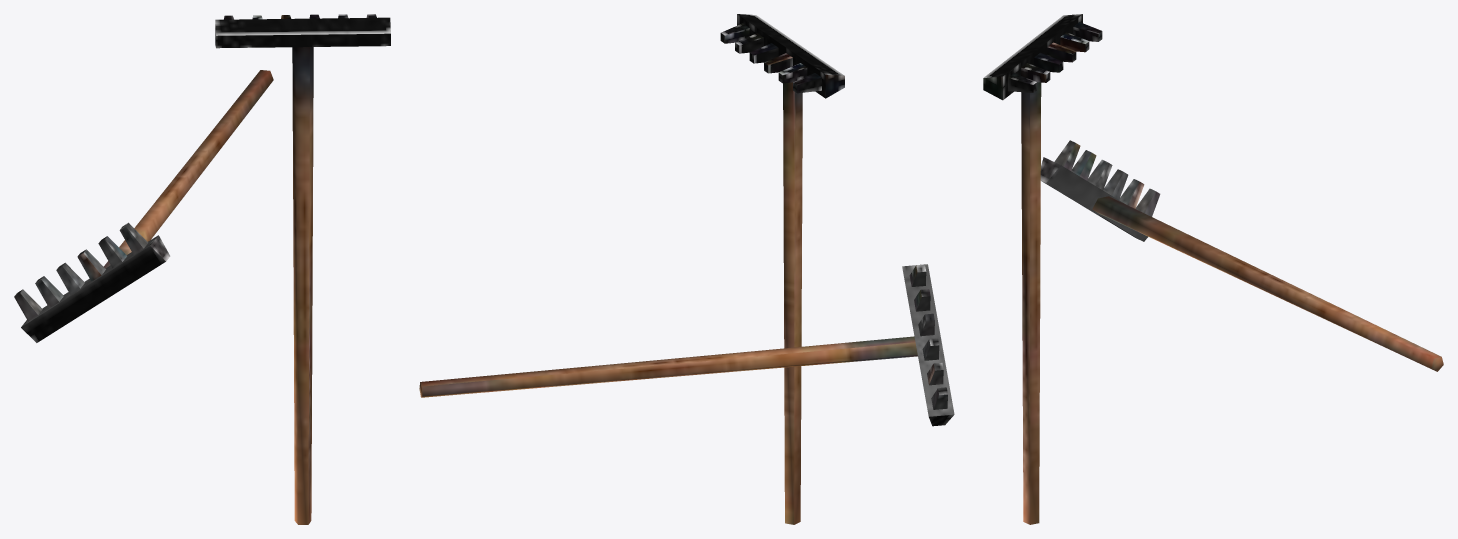
Rendered from garden fork.fbx.
The picture shows the model from 3 angles, left to right: view 1: azimuth 30°, elevation 25°; view 2: azimuth 150°, elevation 25°; view 3: azimuth 270°, elevation 25°; orthographic projection. The views are drawn at different scales.
Parts seen in each view (by area): view 1: Rake, Rake.001; view 2: Rake.001, Rake; view 3: Rake, Rake.001.
Boxes of the visible parts, box(x1,y1,x2,y2) form: Rake: box(215, 14, 390, 524); Rake.001: box(14, 70, 273, 342); Rake.001: box(419, 264, 954, 426); Rake: box(720, 14, 844, 524); Rake: box(983, 14, 1102, 524); Rake.001: box(1040, 140, 1443, 371).
Bounding box in the file's own units: 315 × 371 × 324.
